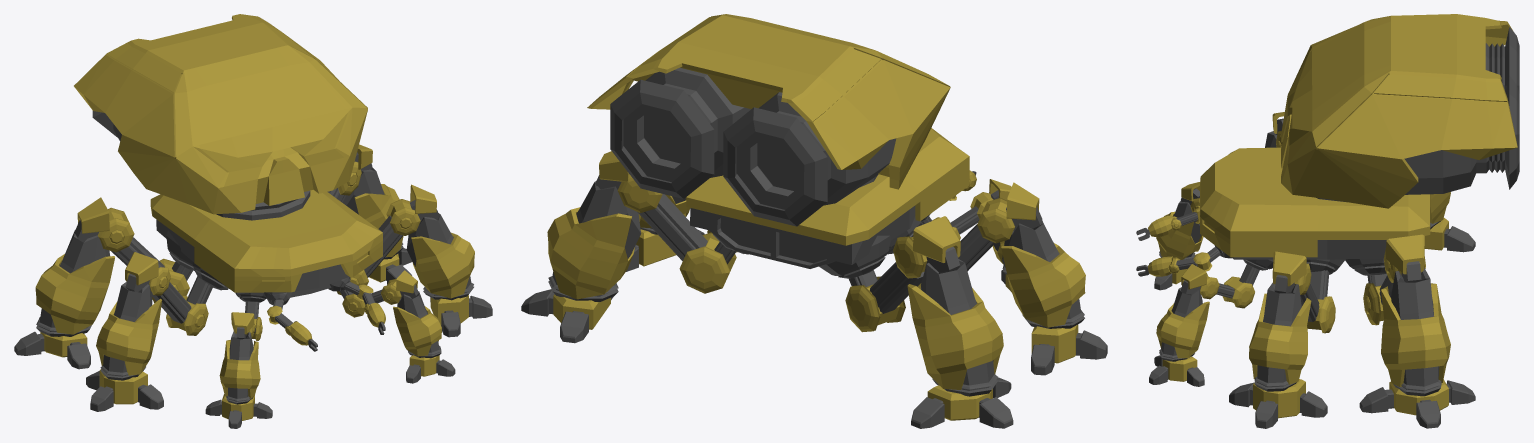
Rendered from Robot.fbx.
The picture shows the model from 3 angles, left to right: view 1: azimuth 30°, elevation 25°; view 2: azimuth 150°, elevation 25°; view 3: azimuth 270°, elevation 25°; orthographic projection. The views are drawn at different scales.
Visible parts, largest first — view 1: polySurface91; view 2: polySurface91; view 3: polySurface91.
Boxes of the visible parts, left/top/right/bottom form: polySurface91: left=14, top=14, right=492, bottom=428; polySurface91: left=521, top=14, right=1107, bottom=428; polySurface91: left=1136, top=14, right=1519, bottom=428.
Bounding box in the file's own units: 33.78 × 21.13 × 25.88.
